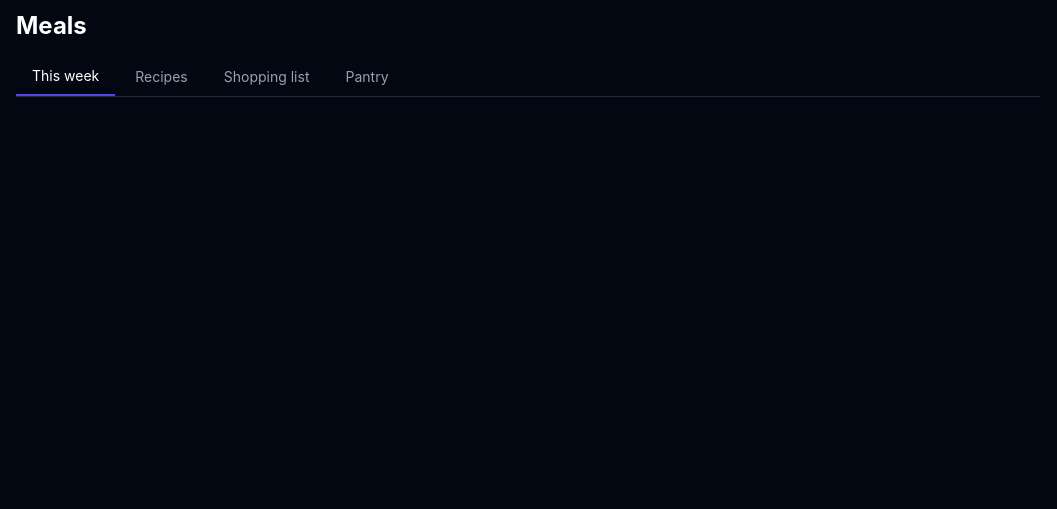
Scenario: MealsPage › Shopping list › shows the server's reason when something fails
The width and height of the screenshot is (1057, 509).
Click the tab "Shopping list" at [267, 77], box x1=208 y1=58 x2=326 y2=96
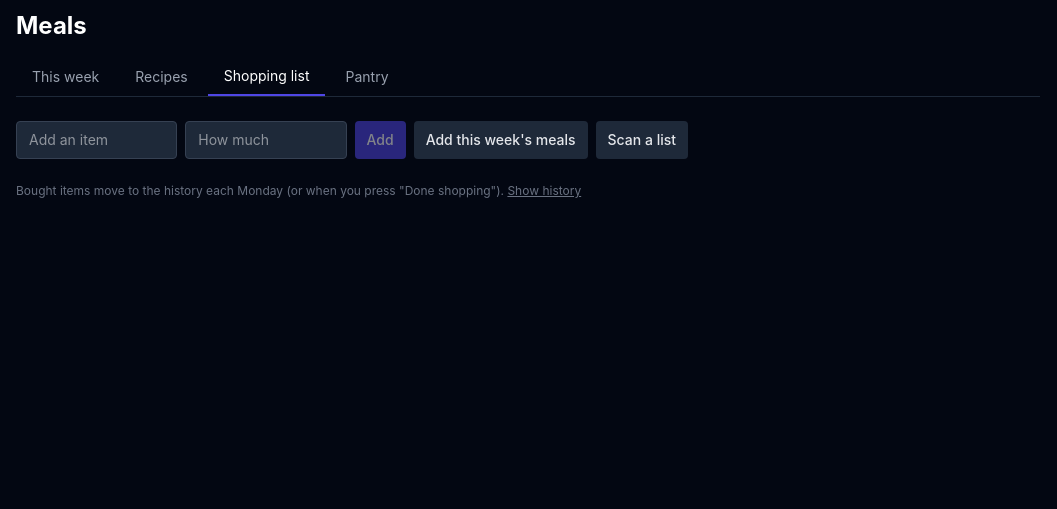
Type "x" into the field named "New item" at [97, 140], box x1=16 y1=121 x2=177 y2=159
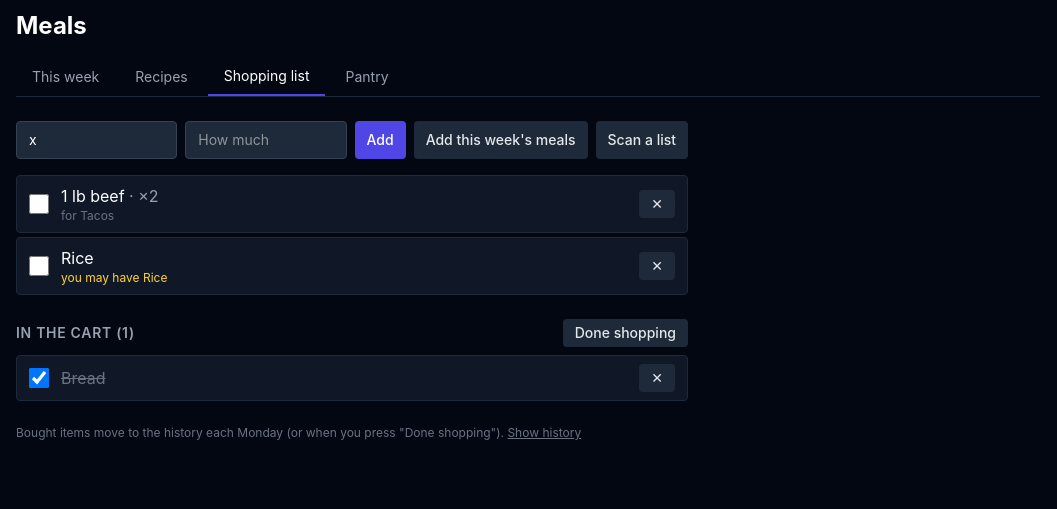
Click the button "Add" at [380, 140], box x1=354 y1=121 x2=406 y2=159
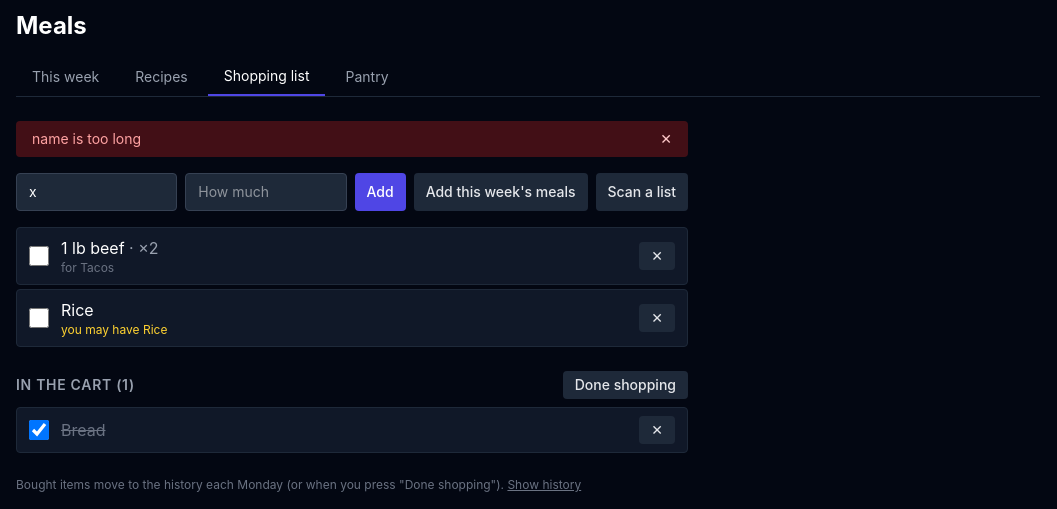
Expected: the text "name is too long" is shown, x1=32 y1=129 x2=141 y2=149
